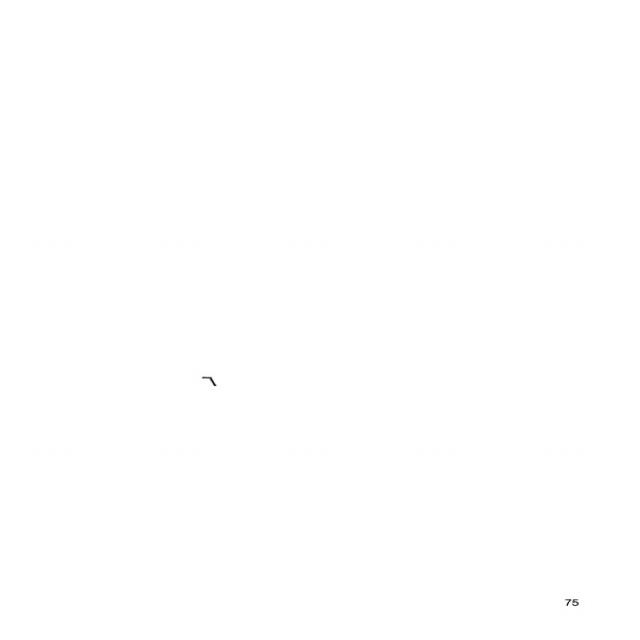6 -six-: (201, 376, 218, 388)
